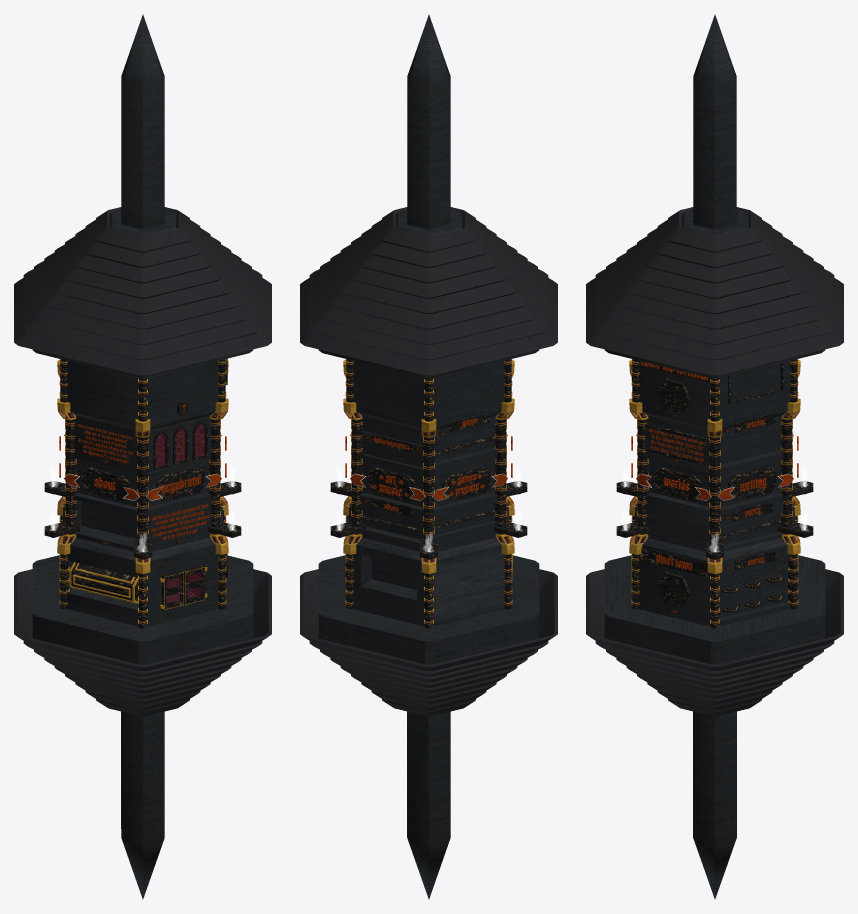
Rendered from HexCoreV2.9-transformed-M.glb.
3 renders of one model, left to right at view 1: azimuth 30°, elevation 25°; view 2: azimuth 150°, elevation 25°; view 3: azimuth 270°, elevation 25°, orthographic.
Visible parts, largest first — view 1: HexCoreFused, Spinner, CabinetDoor, CabinetDoor.001; view 2: HexCoreFused; view 3: HexCoreFused.
Part boxes in pixels (x1,y1,x2,y2): HexCoreFused: [14, 14, 271, 899]; Spinner: [69, 562, 138, 603]; CabinetDoor: [160, 570, 184, 610]; CabinetDoor.001: [183, 565, 207, 605]; HexCoreFused: [300, 14, 557, 899]; HexCoreFused: [586, 14, 843, 899].
Size of the model in its own units: 3.17 by 10.58 by 2.79.
Materials: 8 (7 with a texture image).
